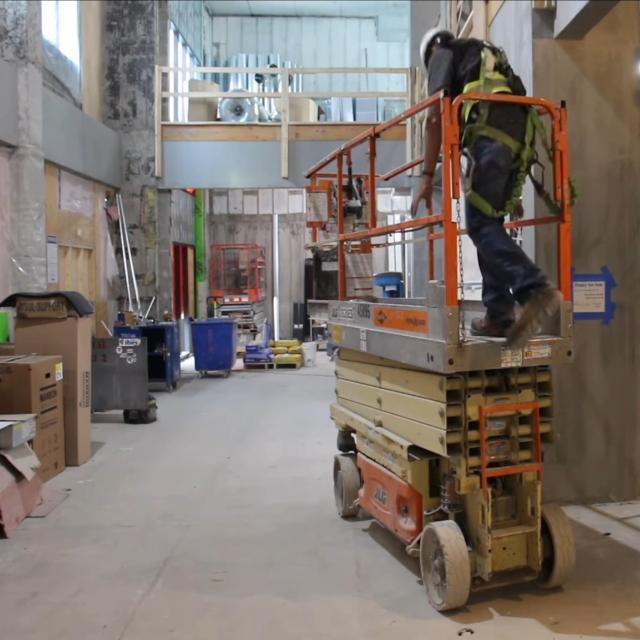2m above platform: (319, 301, 576, 608)
Belt: (454, 38, 520, 111)
worker: (412, 22, 566, 344)
